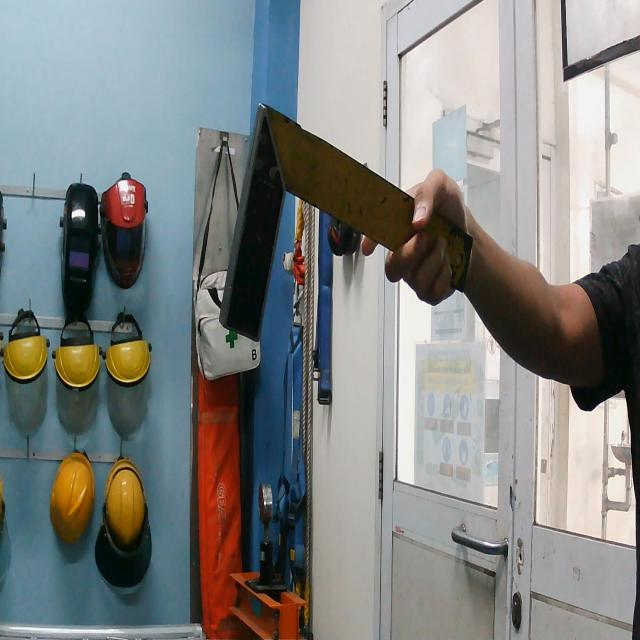penggaris_siku: (217, 93, 477, 351)
